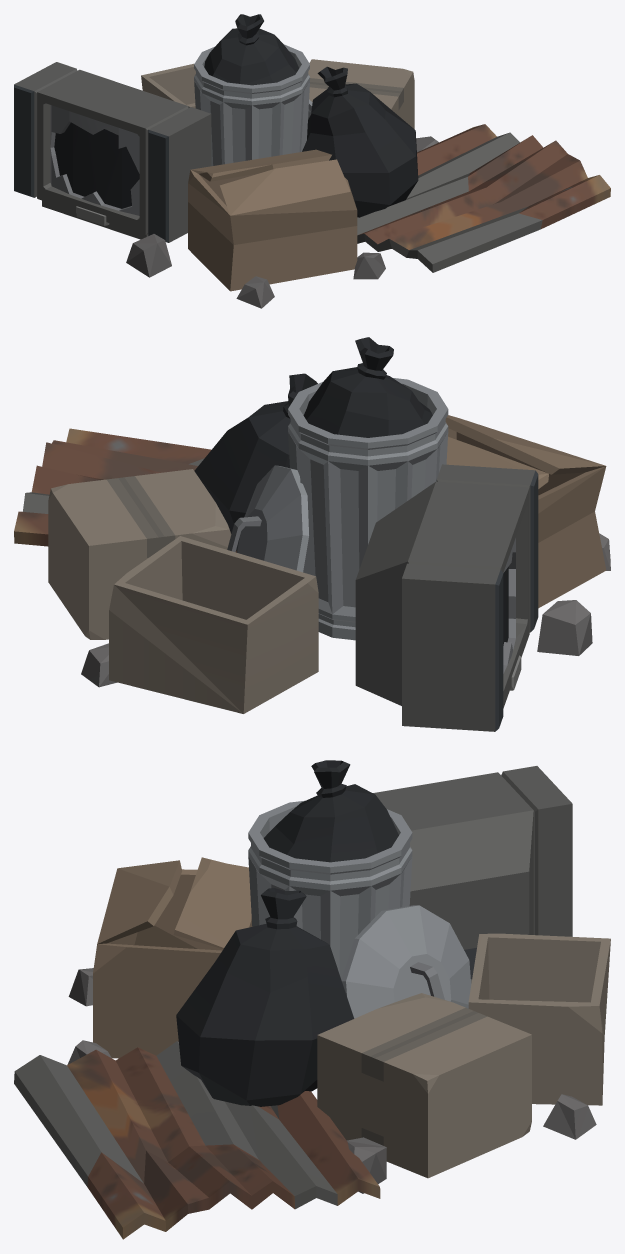
Rendered from SM_Prop_JunkPile_01.obj.
The picture shows the model from 3 angles, top to bottom: view 1: azimuth 30°, elevation 25°; view 2: azimuth 150°, elevation 25°; view 3: azimuth 270°, elevation 25°; orthographic projection. The views are drawn at different scales.
Visible parts, largest first — view 1: SM_Prop_JunkPile_01_0; view 2: SM_Prop_JunkPile_01_0; view 3: SM_Prop_JunkPile_01_0.
Part boxes in pixels (bbox=[...]): SM_Prop_JunkPile_01_0: bbox=[14, 14, 610, 308]; SM_Prop_JunkPile_01_0: bbox=[14, 337, 610, 731]; SM_Prop_JunkPile_01_0: bbox=[14, 760, 610, 1239].
Size of the model in its own units: 2.4 by 1.05 by 1.94.
1 material, 1 textured.
